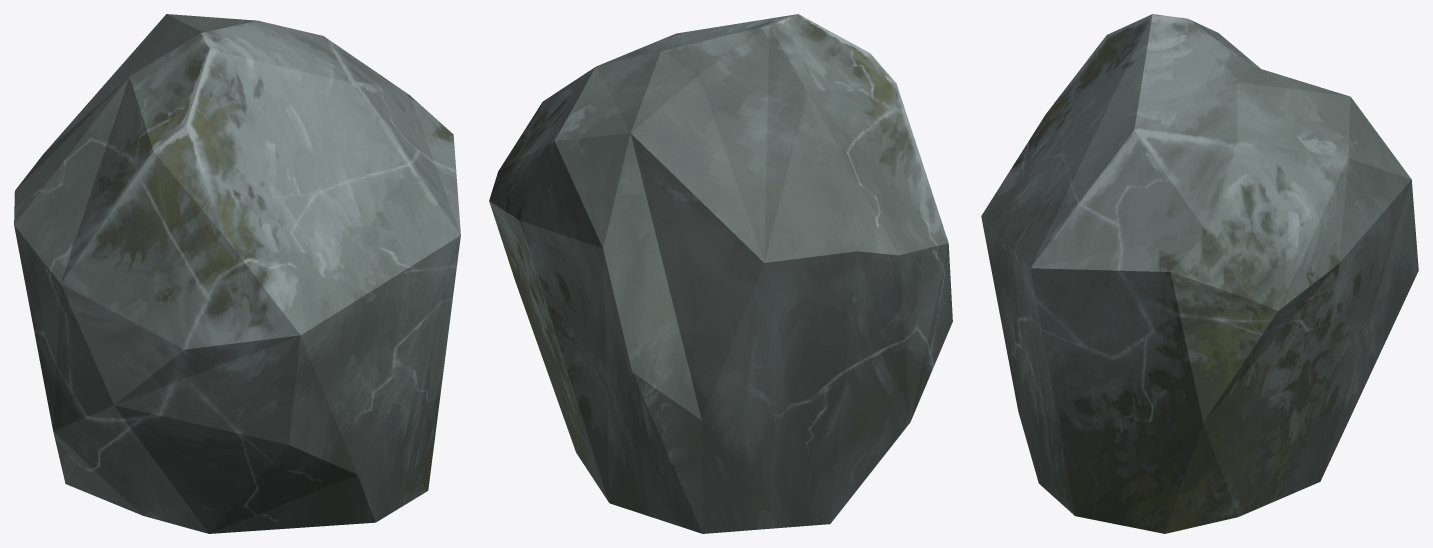
The model's file is glaz_3.obj.
The picture shows the model from 3 angles, left to right: view 1: azimuth 30°, elevation 25°; view 2: azimuth 150°, elevation 25°; view 3: azimuth 270°, elevation 25°; orthographic projection. The views are drawn at different scales.
Visible parts, largest first — view 1: rock.012; view 2: rock.012; view 3: rock.012.
Part boxes in pixels (<box>): rock.012: <box>14,14,460,533</box>; rock.012: <box>489,14,952,533</box>; rock.012: <box>981,14,1418,533</box>.
Bounding box in the file's own units: 14.49 × 15.33 × 14.4.
1 material, 1 textured.
